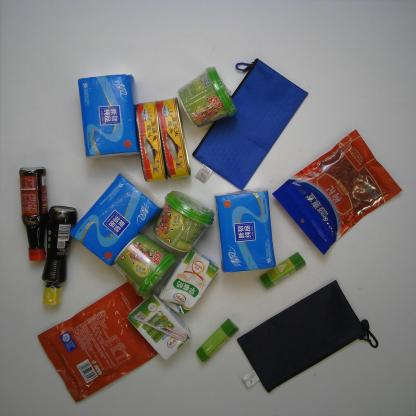Canned Food: (154, 94, 191, 183), (134, 99, 168, 184)
Dried Fruit: (271, 128, 404, 259), (36, 279, 161, 404)
Instant Drink: (111, 232, 178, 300), (151, 189, 215, 255), (176, 64, 239, 128)
Milk: (158, 246, 218, 318), (128, 293, 191, 360)
Seasoner: (38, 206, 76, 310), (16, 165, 52, 264)
Stationery: (235, 276, 380, 397), (191, 56, 309, 196), (196, 318, 239, 364), (258, 252, 307, 287)
Tissue: (68, 168, 163, 267), (77, 74, 141, 160), (215, 189, 278, 276)
